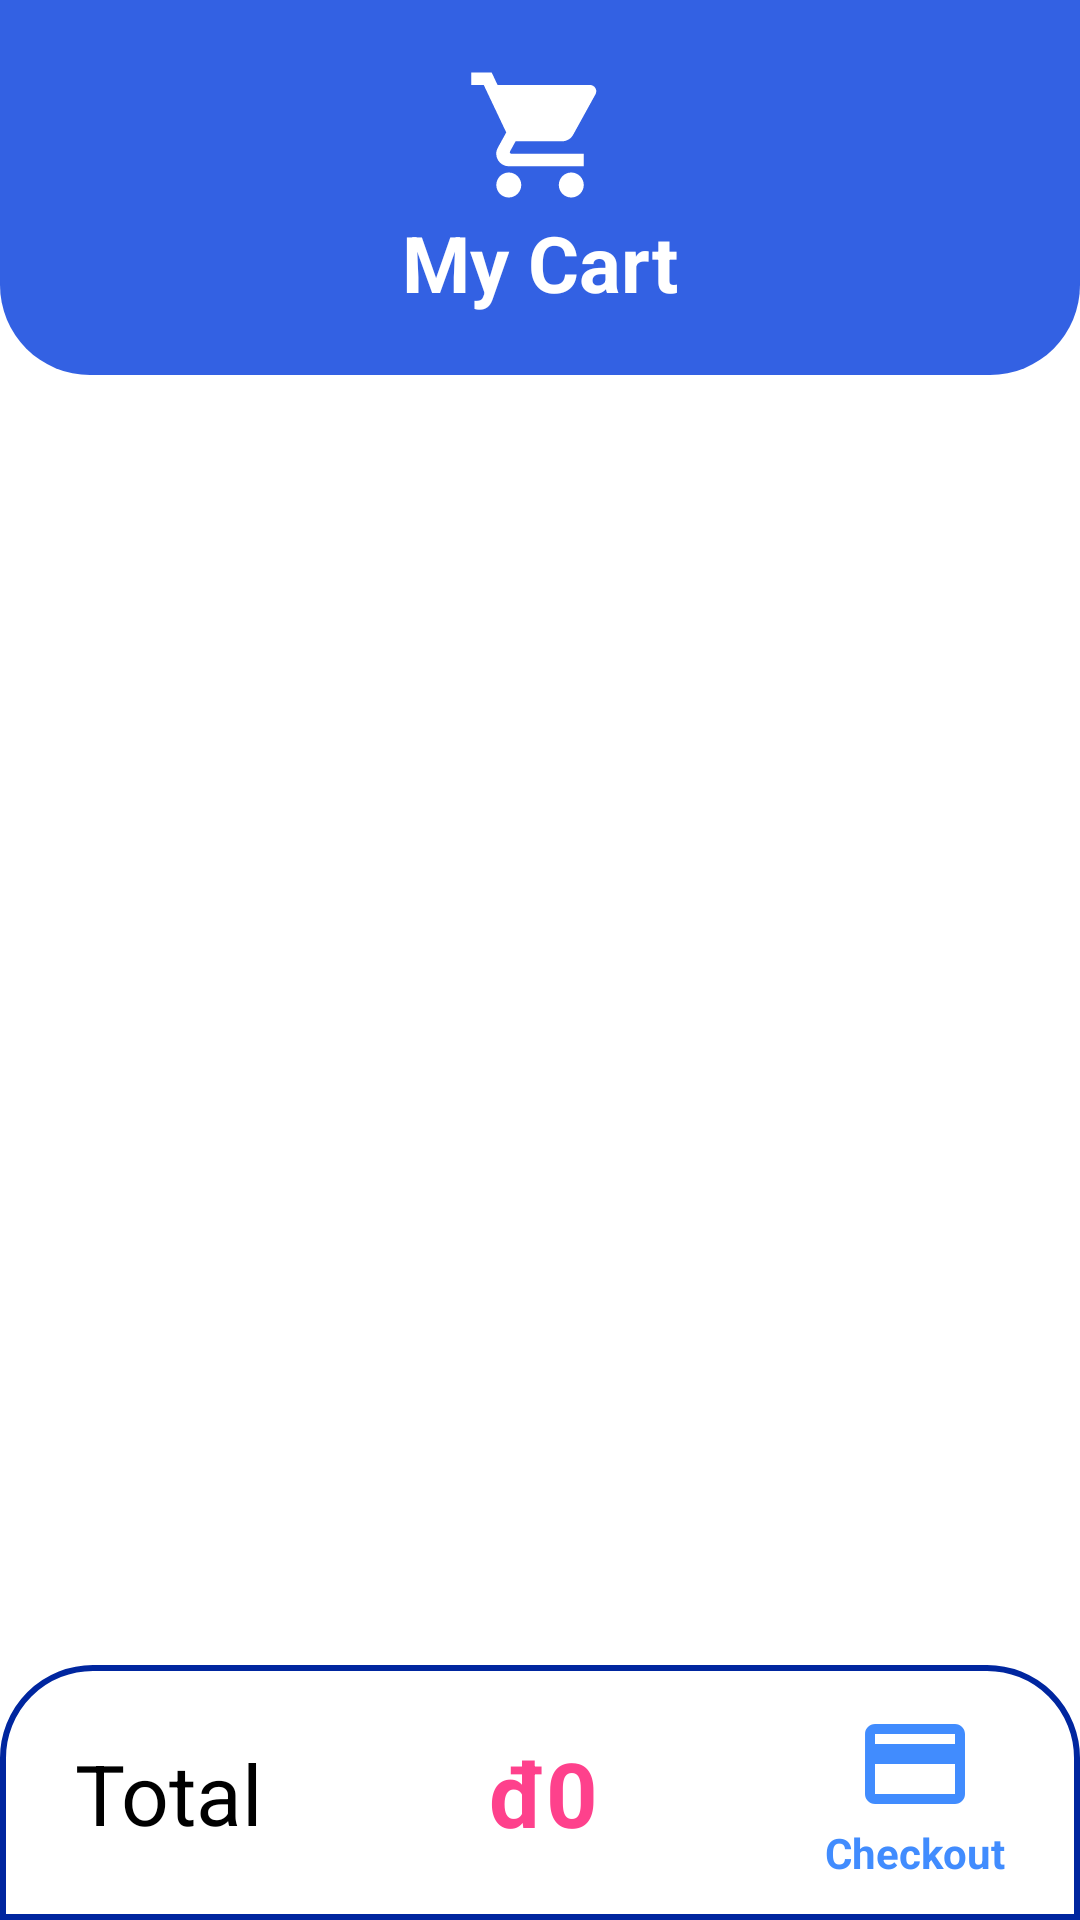

Icons on this 1080×1920 Android screen, each with the point to tap as point (x, y):
shopping cart: point (534, 135)
